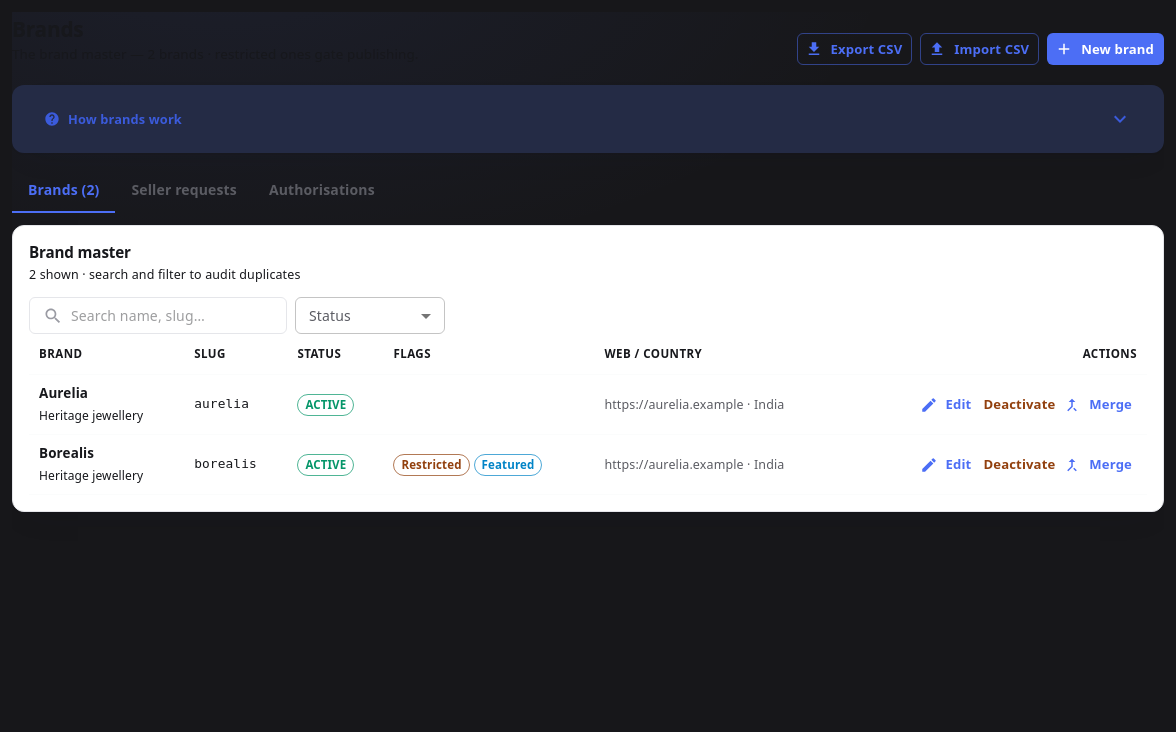
Test case: BrandsView (admin) › switches to the requests queue tab
Click the tab "Seller requests" at (184, 190), box [115, 166, 253, 214]
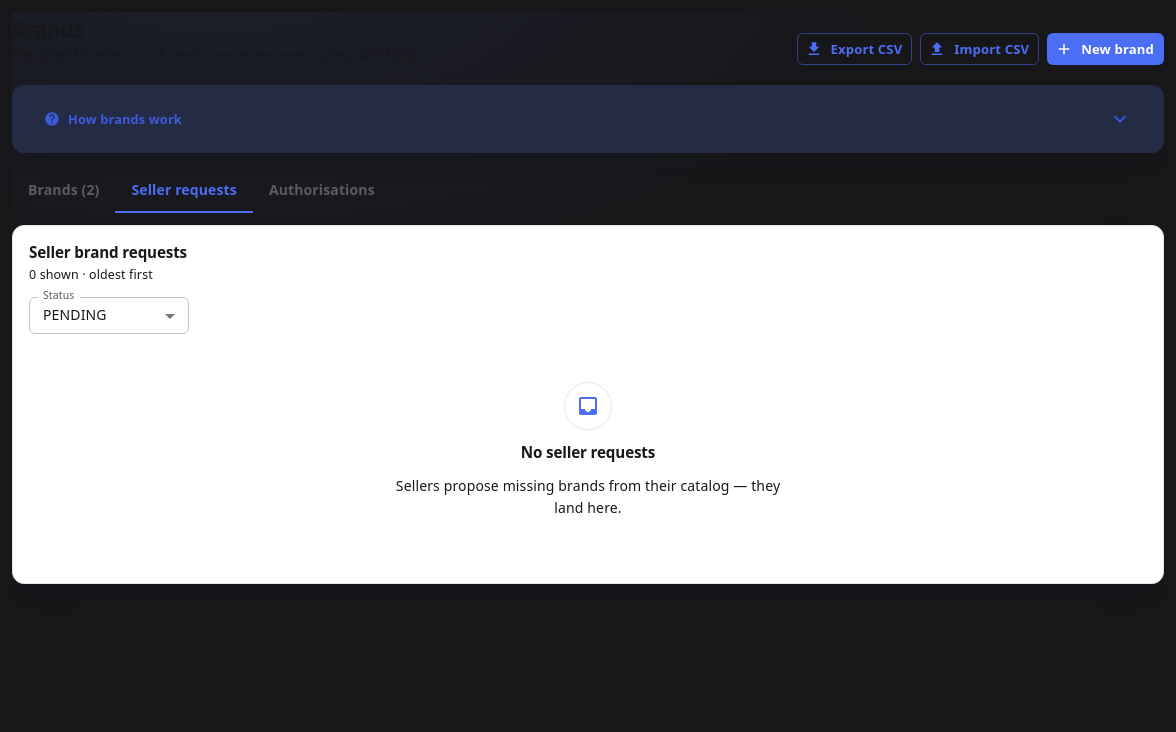
expect the heading "Seller brand requests" is shown: met, box [29, 242, 187, 263]
